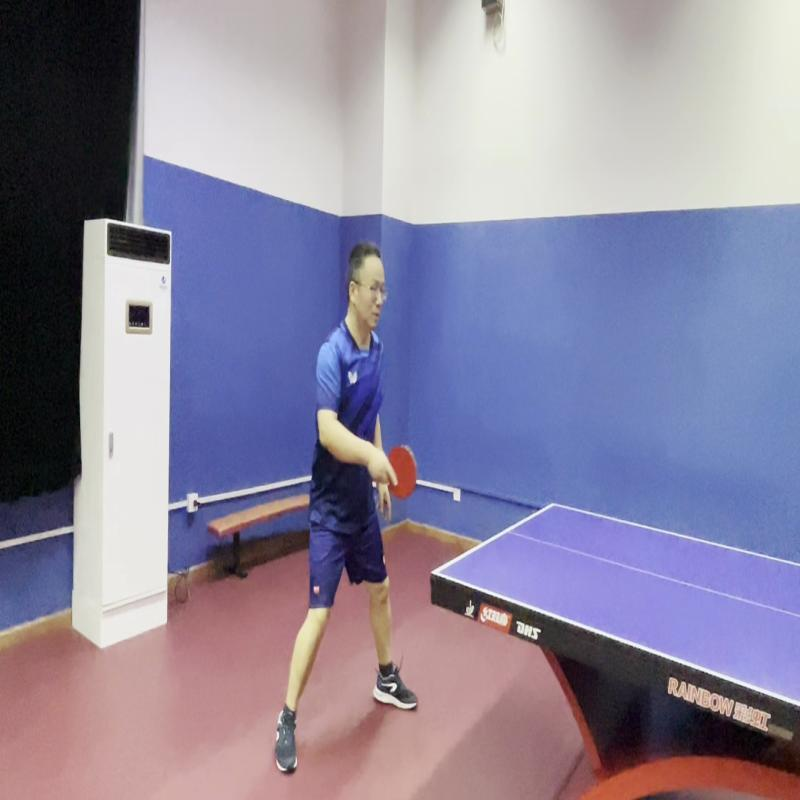bats: (376, 439, 426, 513)
